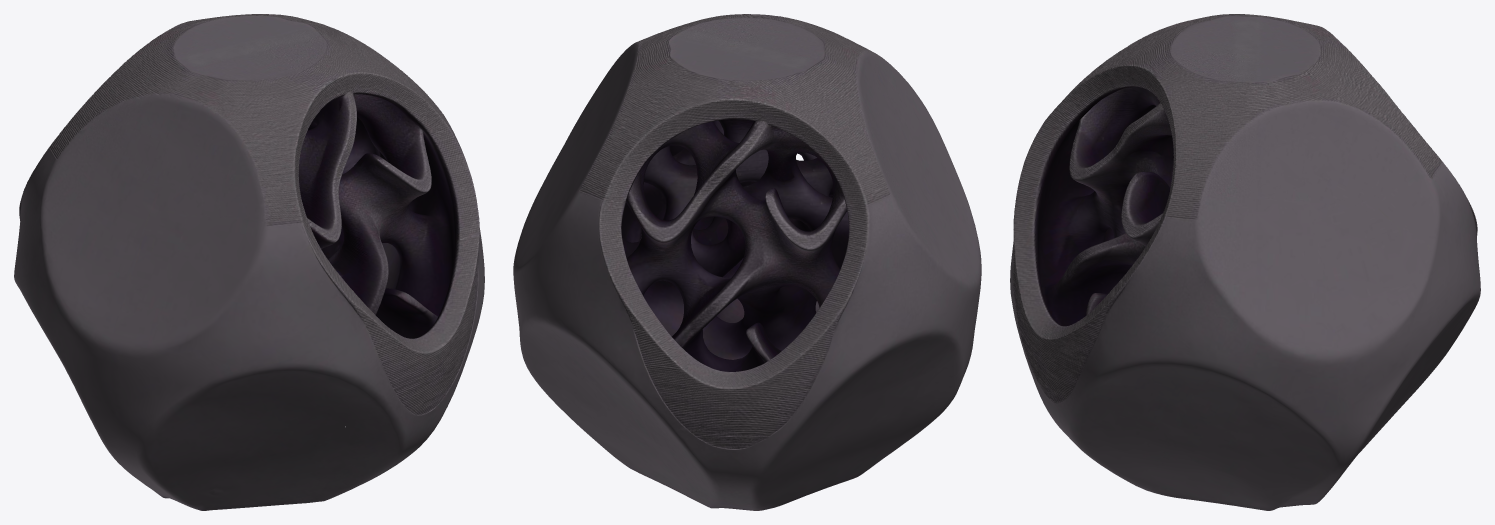
File: valquiria-3d-web.glb
The picture shows the model from 3 angles, left to right: view 1: azimuth 30°, elevation 25°; view 2: azimuth 150°, elevation 25°; view 3: azimuth 270°, elevation 25°; orthographic projection.
Parts seen in each view (by area): view 1: tripo_node_a4df1d49-691d-4537-af48-821279b546f5; view 2: tripo_node_a4df1d49-691d-4537-af48-821279b546f5; view 3: tripo_node_a4df1d49-691d-4537-af48-821279b546f5.
Boxes of the visible parts, bbox=[...] form: tripo_node_a4df1d49-691d-4537-af48-821279b546f5: bbox=[14, 14, 484, 510]; tripo_node_a4df1d49-691d-4537-af48-821279b546f5: bbox=[513, 14, 981, 510]; tripo_node_a4df1d49-691d-4537-af48-821279b546f5: bbox=[1010, 14, 1480, 510].
Bounding box in the file's own units: 0.9774 × 0.9554 × 0.9798.
1 material, 1 textured.
